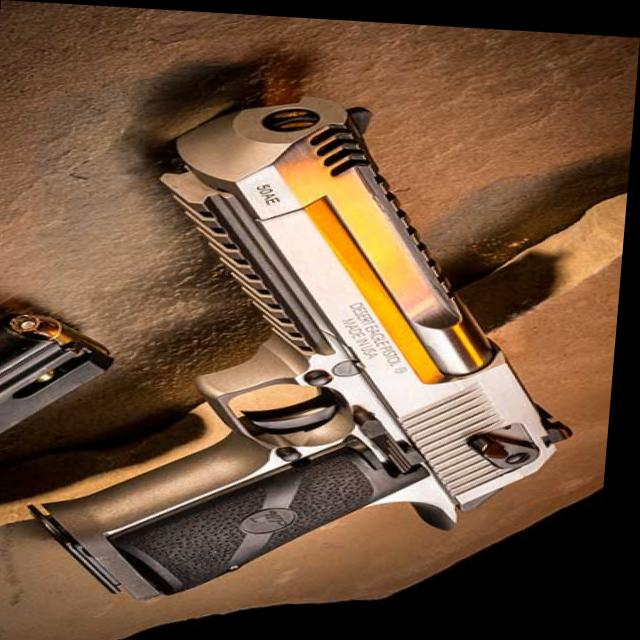handgun: (41, 68, 610, 621)
